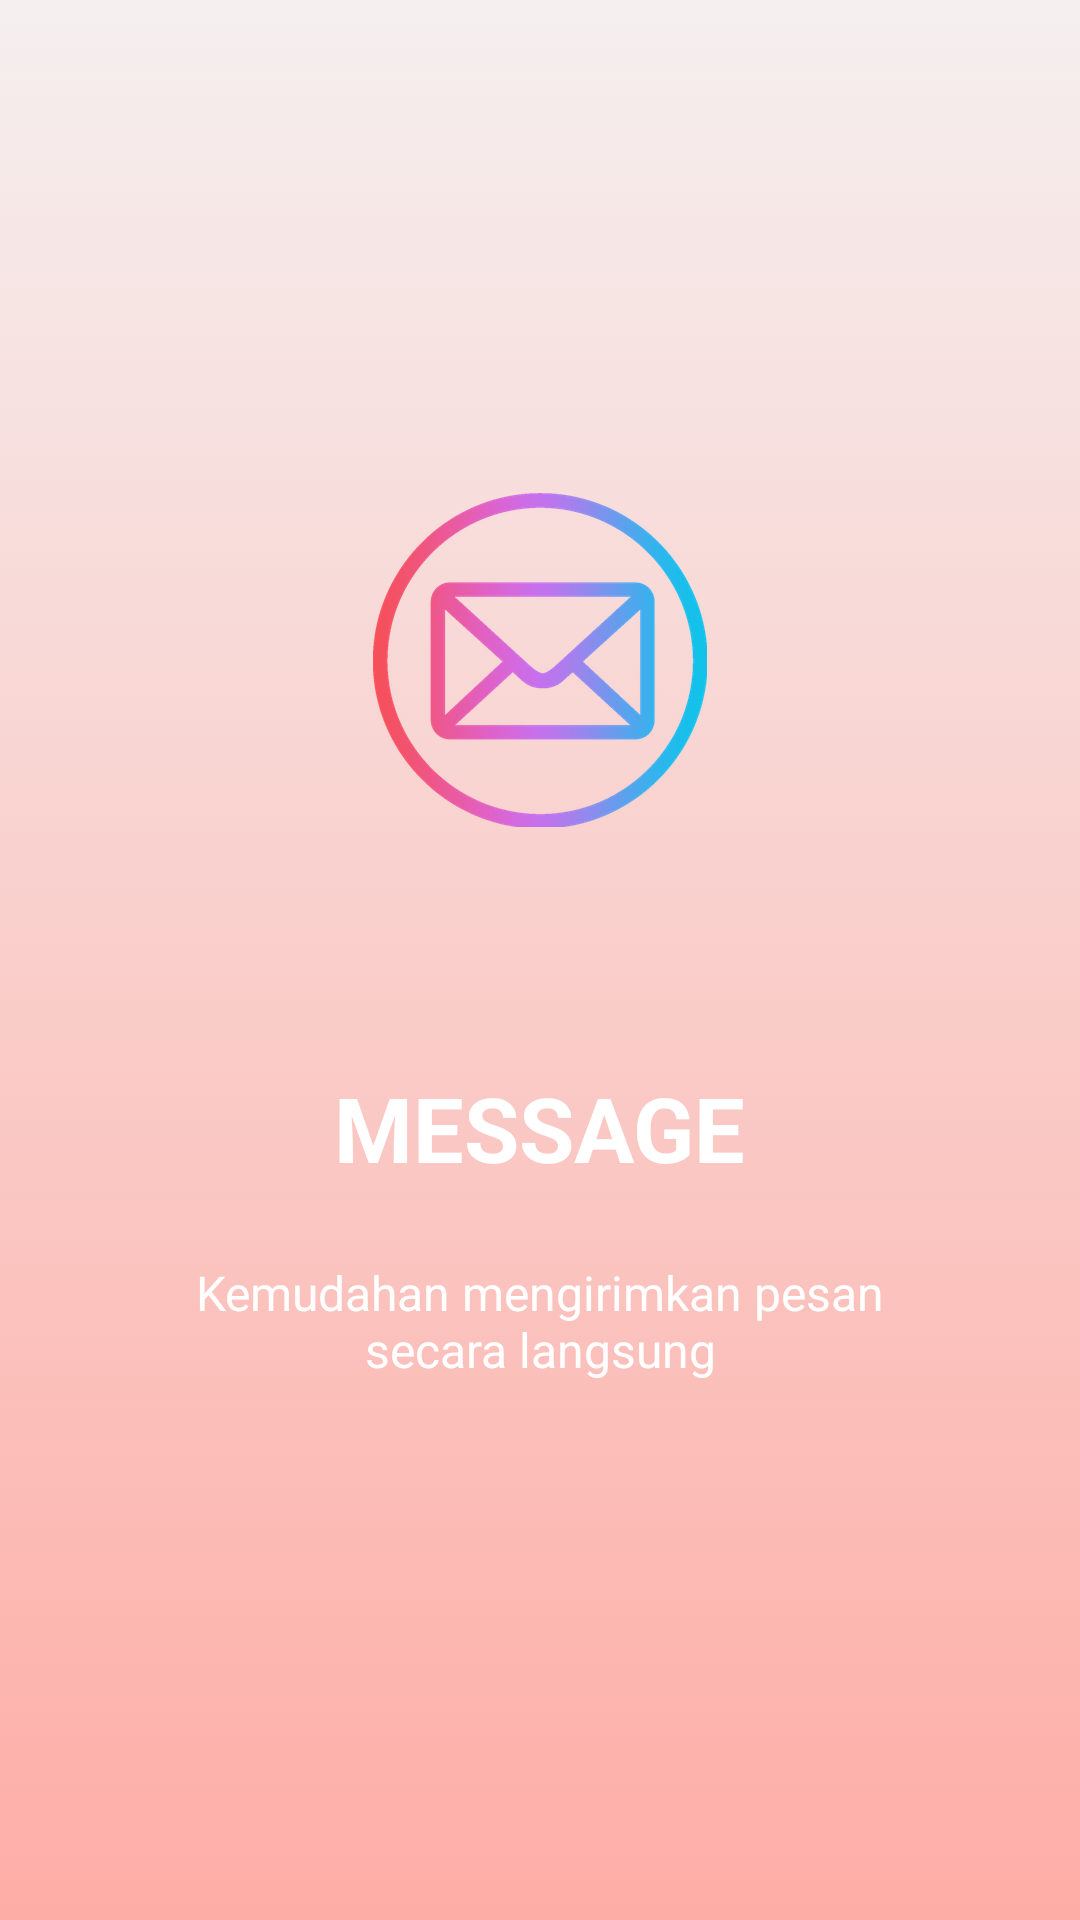

Icons on this 1080x1920 Android screen, each with the point to tap as (x=x, y=y):
email: (x=540, y=660)
